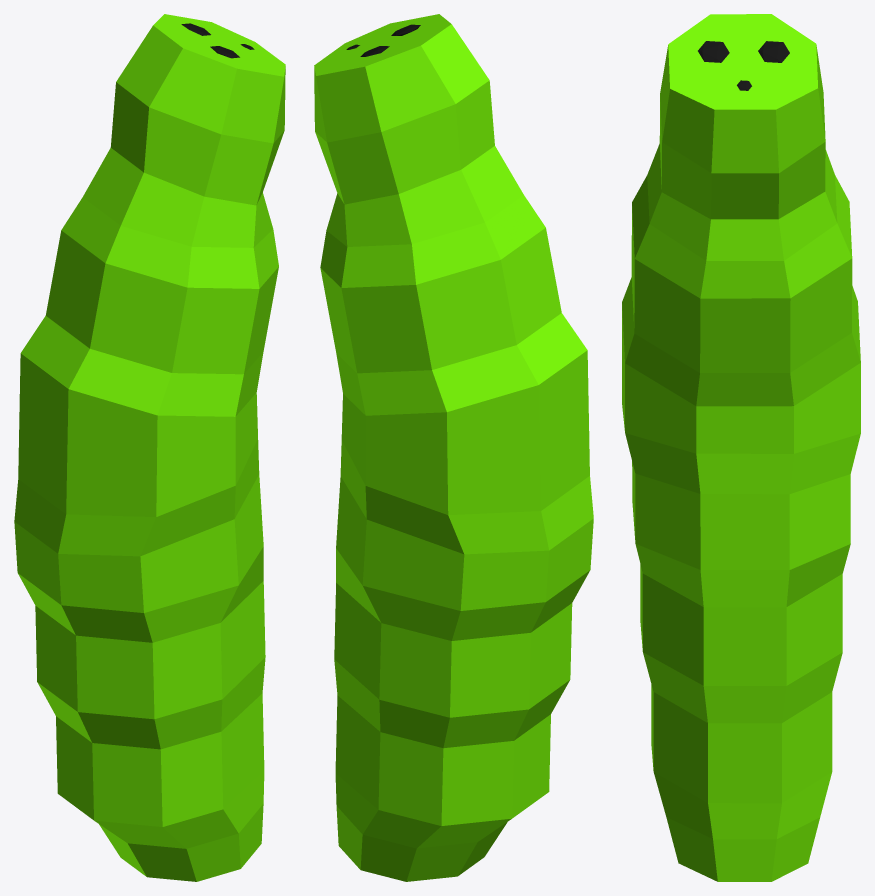
File: larva_animada.fbx
3 views of the same model, side by side, from view 1: azimuth 30°, elevation 25°; view 2: azimuth 150°, elevation 25°; view 3: azimuth 270°, elevation 25° (orthographic).
Visible parts, largest first — view 1: Cylinder; view 2: Cylinder; view 3: Cylinder.
Part boxes in pixels (x1,y1,x2,y2): Cylinder: (14, 14, 285, 881); Cylinder: (314, 14, 593, 881); Cylinder: (622, 14, 860, 881).
Size of the model in its own units: 71.36 by 235 by 61.32.
